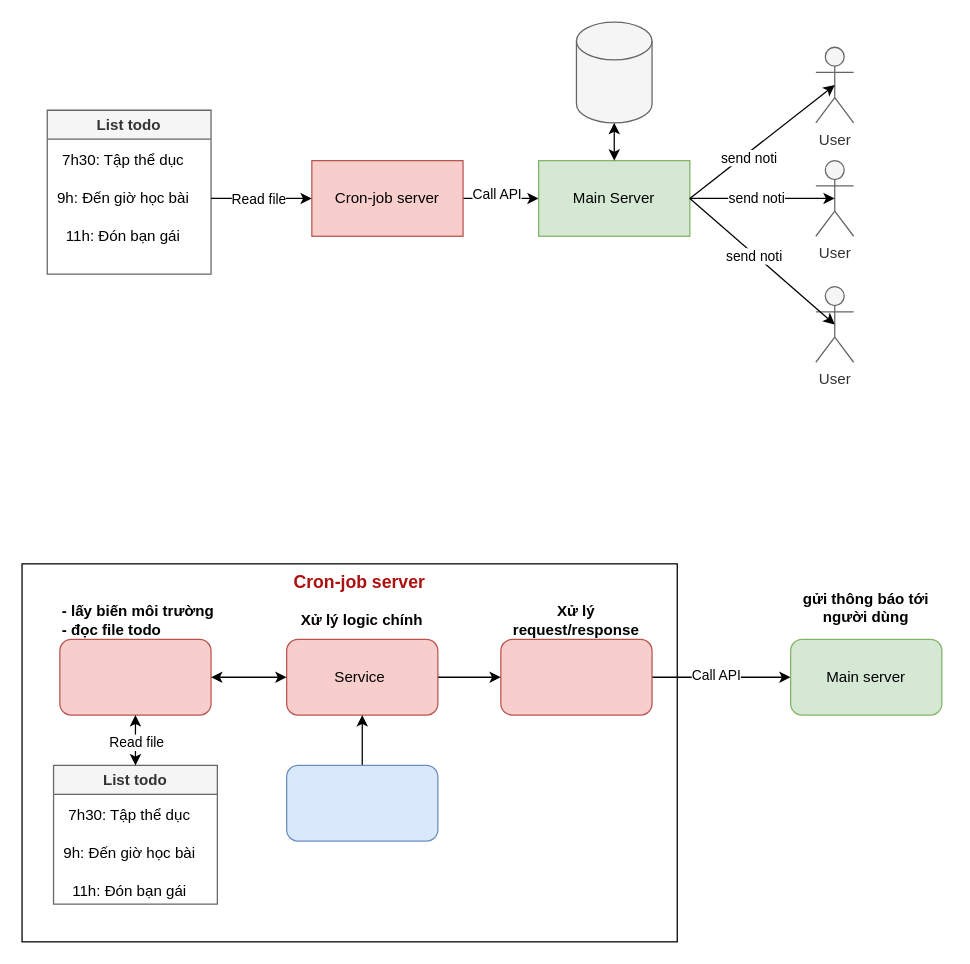
Image size: 970x964. Some labels were removed from this diagram. Here are the shapes that lost their labels. From the top down, the box of each, then its label:
(575, 21, 652, 123): Database
(59, 638, 211, 715): Config
(500, 638, 652, 715): Handler
(285, 764, 438, 841): Main.go
